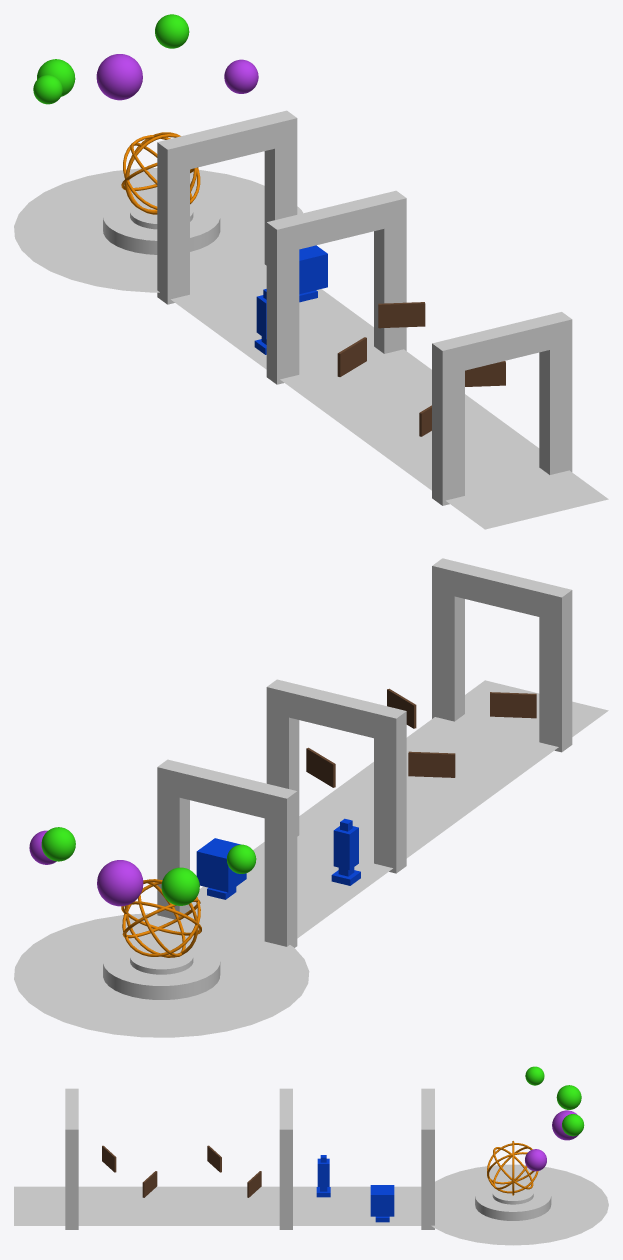
The model's file is Demo_Test.glb.
The picture shows the model from 3 angles, top to bottom: view 1: azimuth 30°, elevation 25°; view 2: azimuth 150°, elevation 25°; view 3: azimuth 270°, elevation 25°; orthographic projection. The views are drawn at different scales.
Parts seen in each view (by area): view 1: Path, Path_End, Arch_01, Arch_02, Arch_03, Planet, Painting, Model; view 2: Path_End, Path, Arch_01, Arch_03, Arch_02, Planet, Painting, Model; view 3: Path, Path_End, Arch_01, Arch_02, Planet, Arch_03, Model, Painting, Torus.003, Torus.004.
Boxes of the visible parts, x1,y1,x2,y2 form: Path: (171,274,608,529); Path_End: (14,168,302,292); Arch_01: (432,312,572,505); Arch_02: (266,190,406,384); Arch_03: (157,110,297,304); Planet: (33,14,258,104); Painting: (337,302,505,436); Model: (254,245,327,354); Path_End: (14,913,309,1037); Path: (190,680,608,938); Arch_01: (432,558,572,752); Arch_03: (157,759,297,947); Arch_02: (266,679,406,873); Planet: (29,827,256,906); Painting: (306,688,536,787); Model: (196,818,360,899); Path: (14,1186,421,1225); Path_End: (417,1164,608,1245); Arch_01: (65,1088,78,1229); Arch_02: (279,1088,292,1229); Planet: (525,1066,584,1171); Arch_03: (421,1088,434,1229); Model: (316,1155,394,1222); Painting: (102,1145,261,1197); Torus.003: (487,1143,538,1193); Torus.004: (493,1147,533,1189).
Size of the model in its own units: 6.2 by 4.01 by 19.25.
